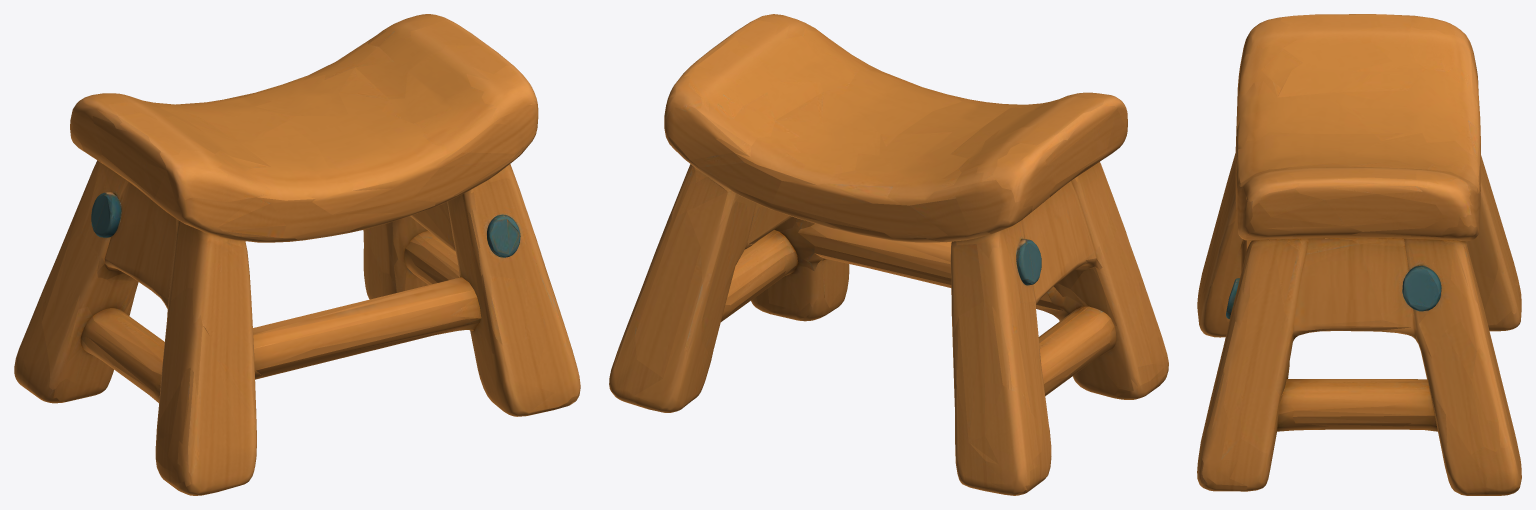
The model's file is saddleStool.glb.
3 views of the same model, side by side, from view 1: azimuth 30°, elevation 25°; view 2: azimuth 150°, elevation 25°; view 3: azimuth 270°, elevation 25° (orthographic). The views are drawn at different scales.
Visible parts, largest first — view 1: Mesh_0; view 2: Mesh_0; view 3: Mesh_0.
Boxes of the visible parts, x1,y1,x2,y2 form: Mesh_0: (14,14,580,495); Mesh_0: (609,14,1168,495); Mesh_0: (1197,14,1521,495).
Size of the model in its own units: 1.17 by 0.8315 by 0.8.
Materials: 1 (1 with a texture image).
